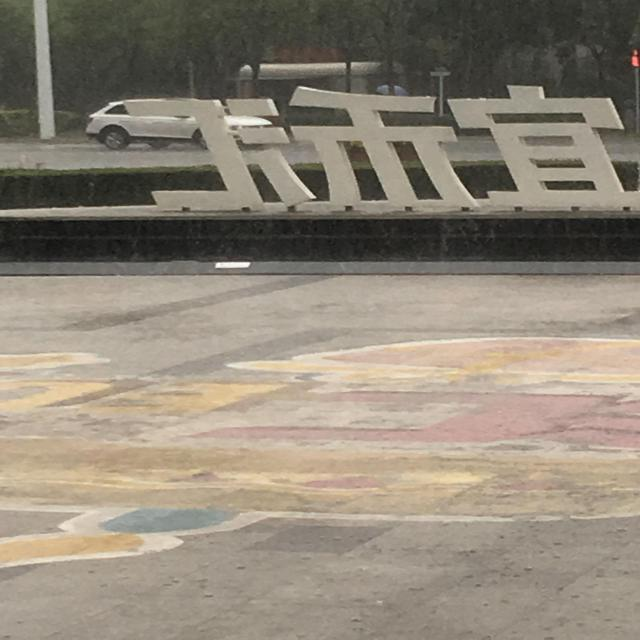car: (88, 100, 272, 150)
